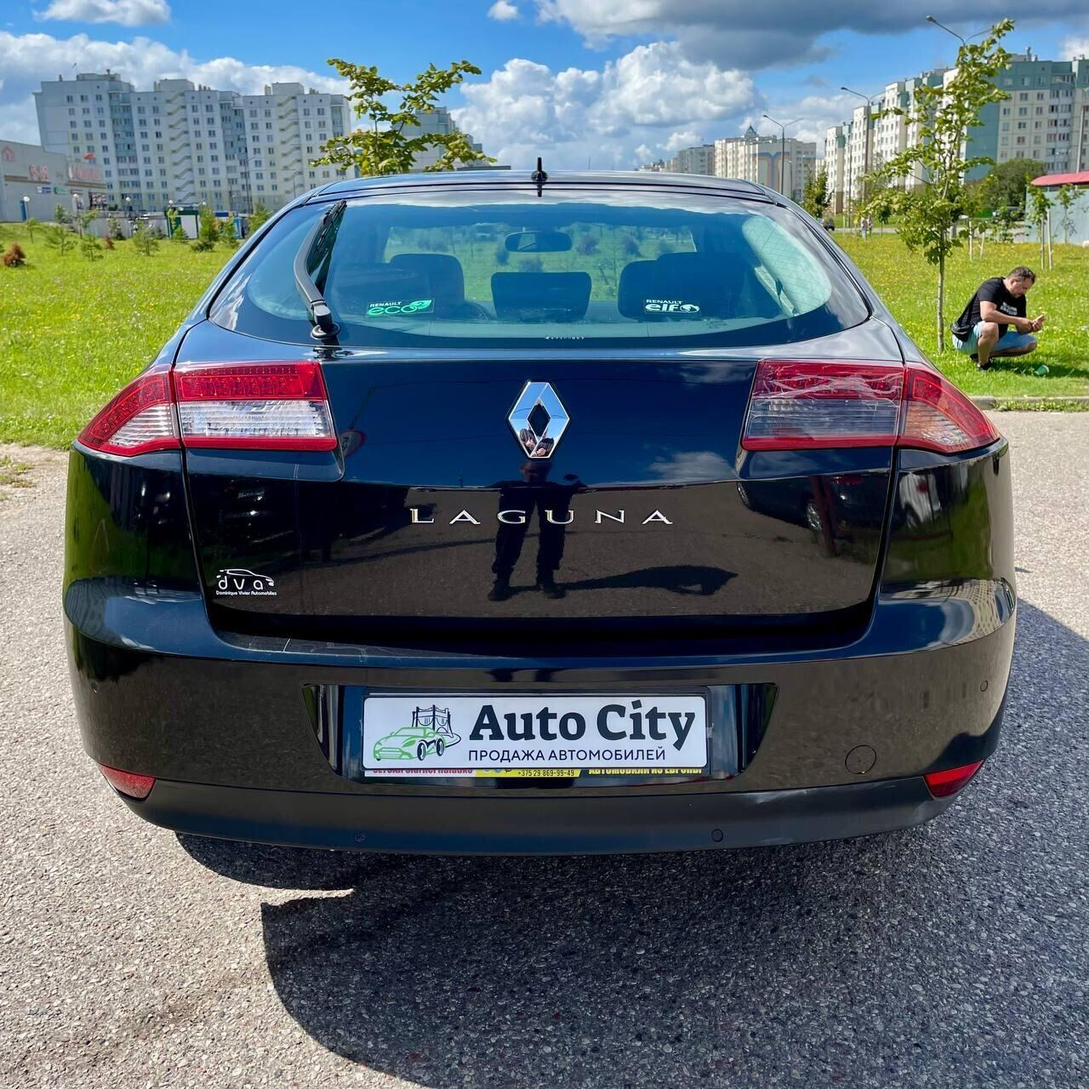Laguna_2010-2015: (62, 159, 1035, 899)
